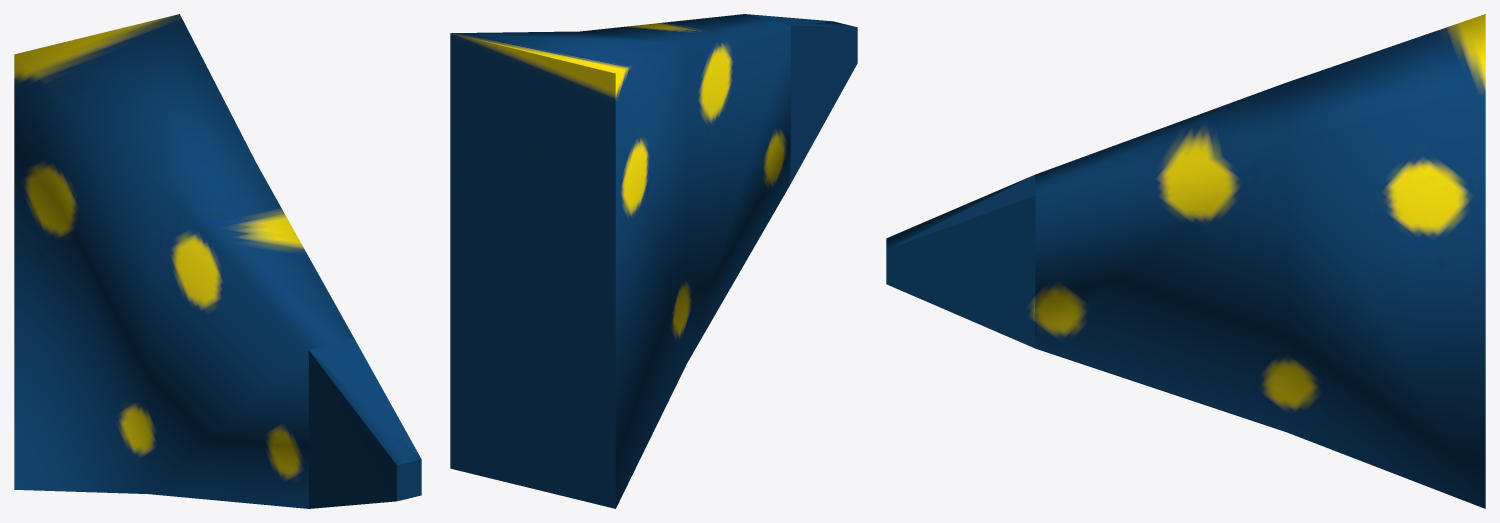
File: Fish9_2_new.dae
3 views of the same model, side by side, from view 1: azimuth 30°, elevation 25°; view 2: azimuth 150°, elevation 25°; view 3: azimuth 270°, elevation 25° (orthographic). The views are drawn at different scales.
Parts seen in each view (by area): view 1: Cube_Cube_000; view 2: Cube_Cube_000; view 3: Cube_Cube_000.
Boxes of the visible parts, x1,y1,x2,y2 form: Cube_Cube_000: [14, 14, 421, 508]; Cube_Cube_000: [450, 14, 857, 508]; Cube_Cube_000: [886, 14, 1485, 508].
Bounding box in the file's own units: 3.11 × 10.16 × 7.81.
Materials: 2 (2 with a texture image).
